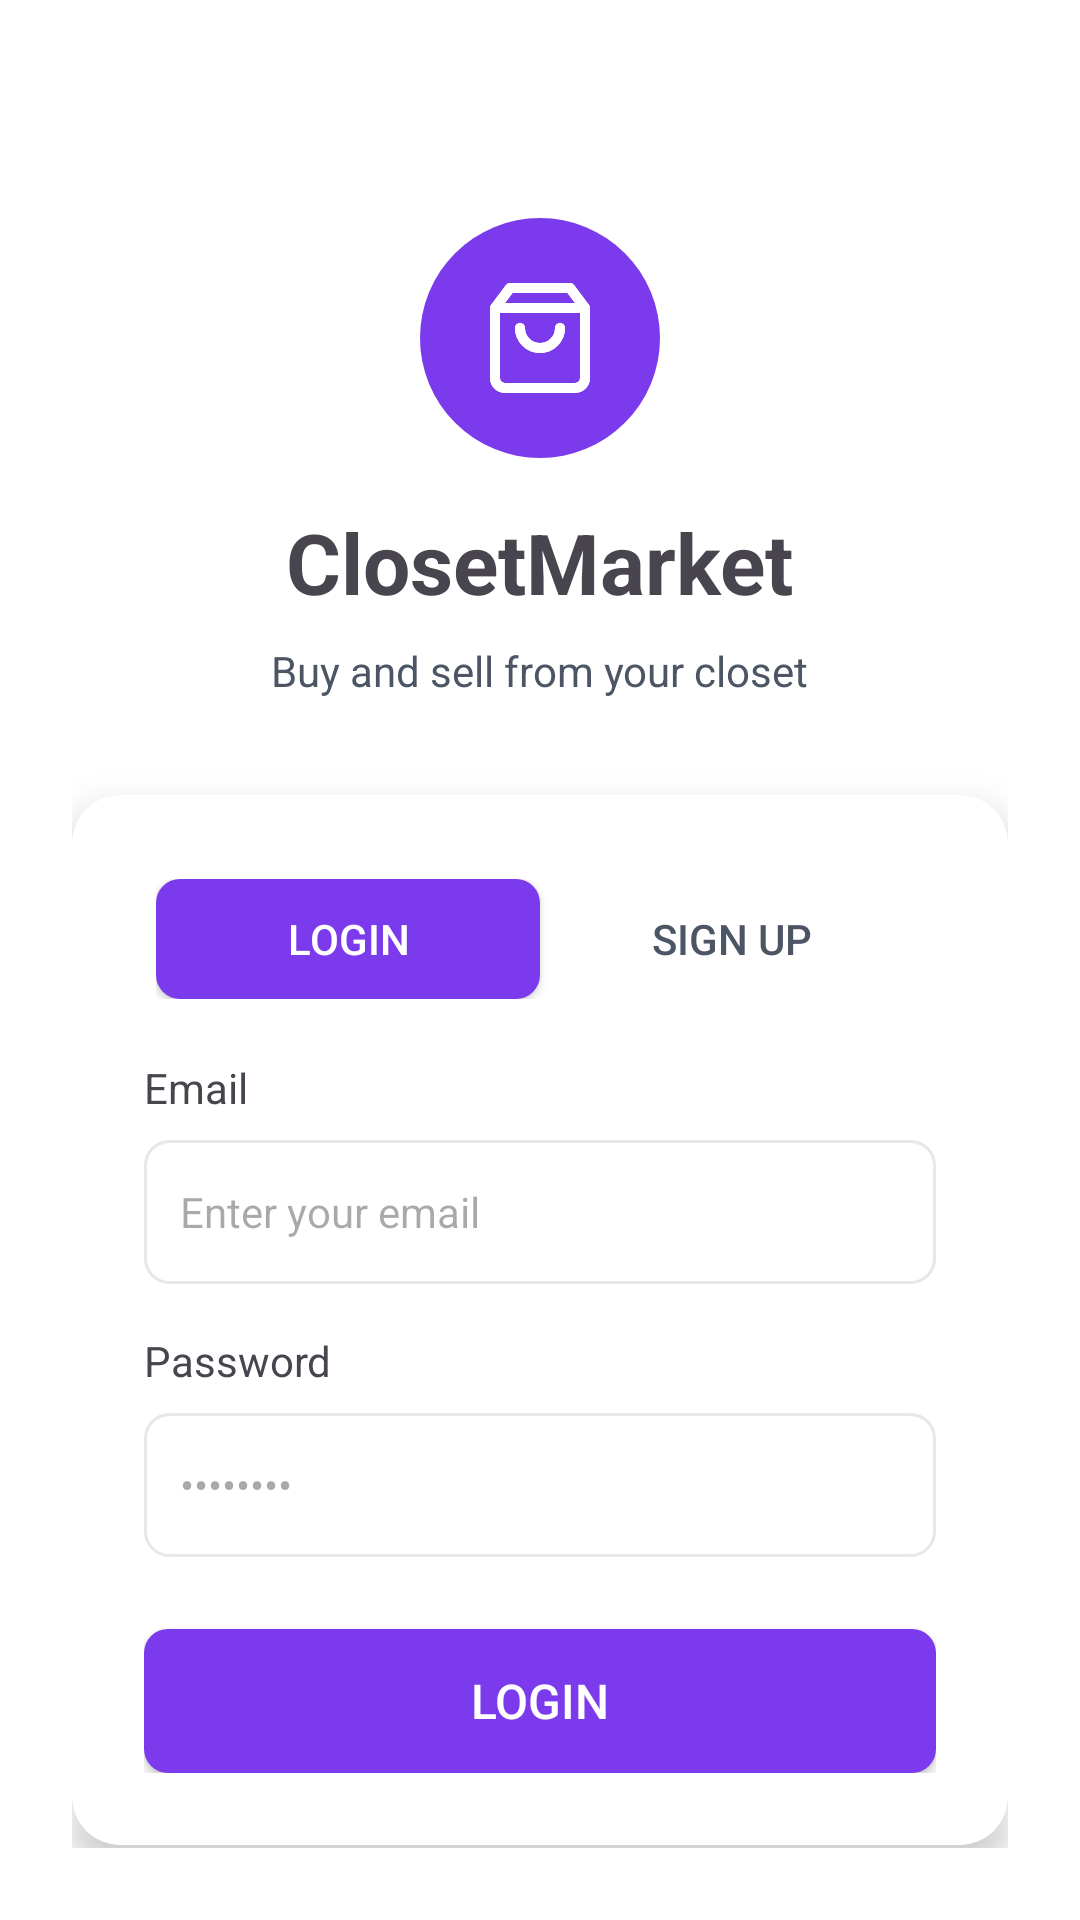

Named icons in this screenshot (1080px×1920px) and their centers, (x,y):
shopping bag: (540,338)
